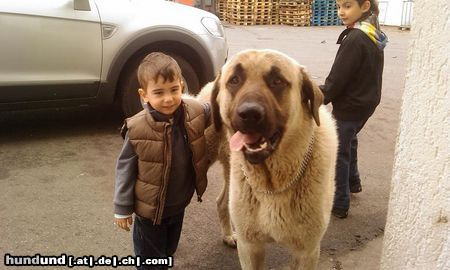human_face: (137, 78, 184, 115), (336, 0, 370, 26)
kangal: (196, 48, 340, 270)
person: (113, 51, 212, 270), (318, 0, 390, 219)
